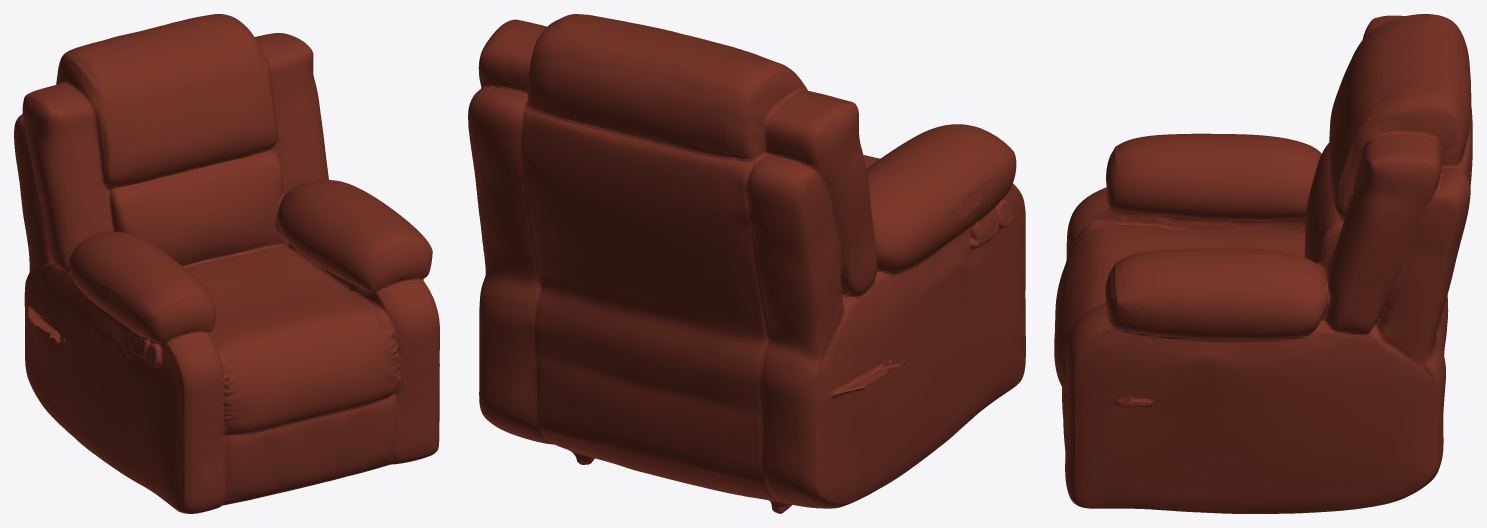
3 renders of one model, left to right at view 1: azimuth 30°, elevation 25°; view 2: azimuth 150°, elevation 25°; view 3: azimuth 270°, elevation 25°, orthographic. The views are drawn at different scales.
Parts seen in each view (by area): view 1: tmpbcblel_0ply012; view 2: tmpbcblel_0ply012; view 3: tmpbcblel_0ply012.
Part boxes in pixels (x1,y1,x2,y2): tmpbcblel_0ply012: (14, 14, 439, 513); tmpbcblel_0ply012: (468, 14, 1025, 513); tmpbcblel_0ply012: (1054, 14, 1472, 513).
Bounding box in the file's own units: 1.36 × 1.52 × 1.47.
